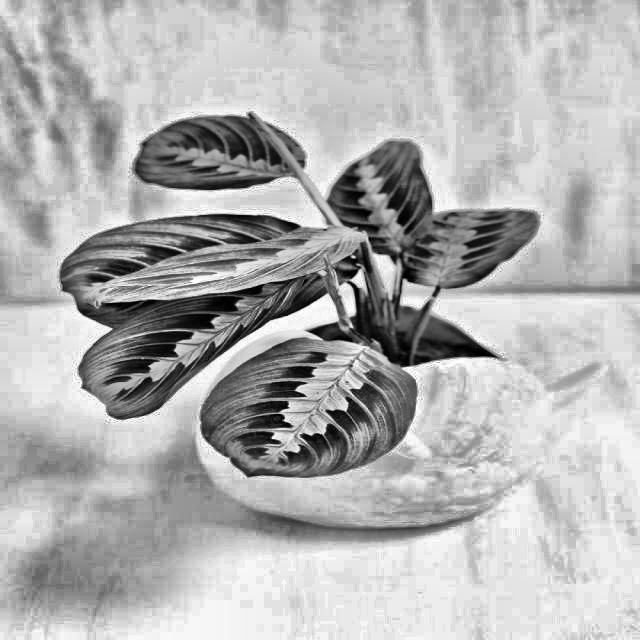plants: (53, 107, 560, 538)
